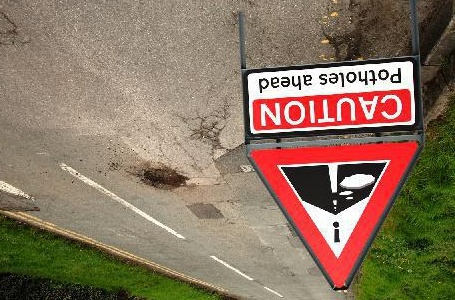pothole: (132, 162, 190, 192)
